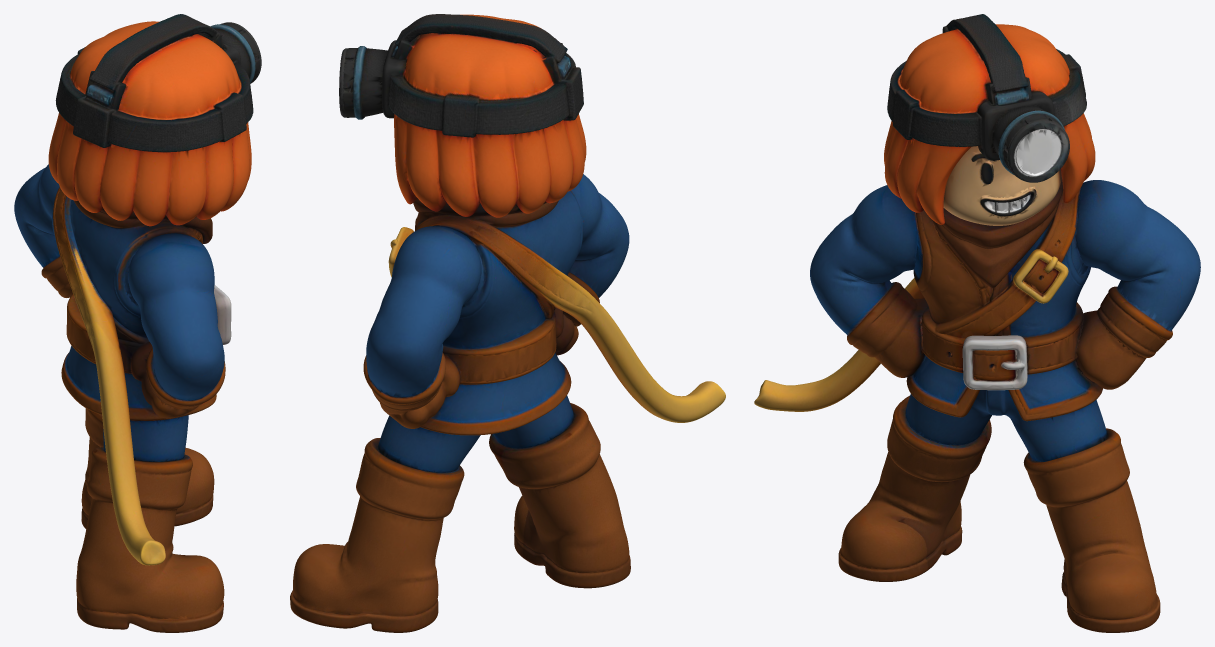
The model's file is agent-minifig.glb.
The picture shows the model from 3 angles, left to right: view 1: azimuth 30°, elevation 25°; view 2: azimuth 150°, elevation 25°; view 3: azimuth 270°, elevation 25°; orthographic projection. The views are drawn at different scales.
Visible parts, largest first — view 1: tripo_node_4e16f1a1-0139-488a-b886-afe129749c97; view 2: tripo_node_4e16f1a1-0139-488a-b886-afe129749c97; view 3: tripo_node_4e16f1a1-0139-488a-b886-afe129749c97.
Part boxes in pixels (x1=…): tripo_node_4e16f1a1-0139-488a-b886-afe129749c97: x1=14, y1=14, x2=261, y2=632; tripo_node_4e16f1a1-0139-488a-b886-afe129749c97: x1=290, y1=14, x2=725, y2=632; tripo_node_4e16f1a1-0139-488a-b886-afe129749c97: x1=754, y1=14, x2=1200, y2=632.
Bounding box in the file's own units: 0.4634 × 0.9803 × 0.7263.
Materials: 1 (1 with a texture image).
